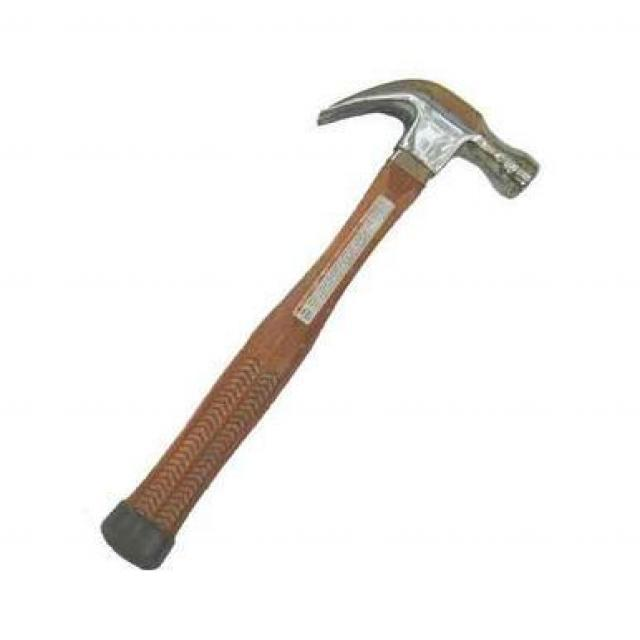hammer: (92, 61, 550, 580)
